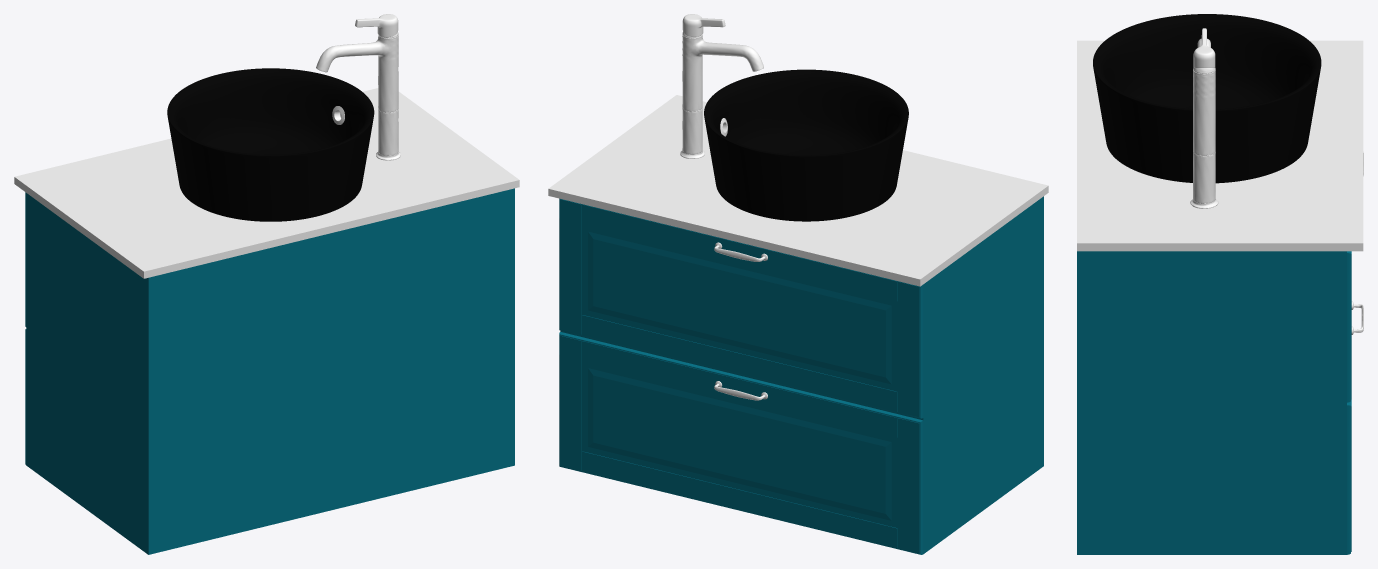
Rendered from wash basin.glb.
The picture shows the model from 3 angles, left to right: view 1: azimuth 30°, elevation 25°; view 2: azimuth 150°, elevation 25°; view 3: azimuth 270°, elevation 25°; orthographic projection. The views are drawn at different scales.
Parts seen in each view (by area): view 1: Box001, Box002, Cylinder001, Cylinder004, Group002; view 2: Group003, Box001, Box002, Cylinder001, Cylinder004, Group002; view 3: Box001, Box002, Cylinder001, Cylinder004, Group003, Group002.
Boxes of the visible parts, x1=… form: Box001: x1=26, y1=188, x2=514, y2=554; Box002: x1=14, y1=88, x2=519, y2=278; Cylinder001: x1=167, y1=68, x2=374, y2=221; Cylinder004: x1=316, y1=32, x2=400, y2=160; Group002: x1=355, y1=14, x2=398, y2=37; Group003: x1=559, y1=198, x2=923, y2=554; Box001: x1=560, y1=196, x2=1043, y2=553; Box002: x1=548, y1=95, x2=1048, y2=286; Cylinder001: x1=704, y1=69, x2=908, y2=221; Cylinder004: x1=680, y1=31, x2=763, y2=158; Group002: x1=682, y1=14, x2=725, y2=36; Box001: x1=1077, y1=251, x2=1346, y2=554; Box002: x1=1077, y1=40, x2=1363, y2=251; Cylinder001: x1=1093, y1=14, x2=1321, y2=183; Cylinder004: x1=1190, y1=38, x2=1218, y2=208; Group003: x1=1347, y1=251, x2=1351, y2=554; Group002: x1=1193, y1=28, x2=1215, y2=67.
Bounding box in the file's own units: 2.51 × 2.73 × 1.5.
